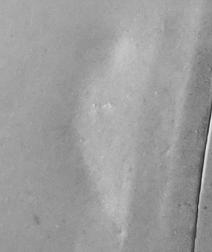dent: (0, 1, 211, 252)
